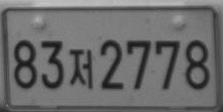2: (99, 38, 123, 89)
3: (41, 39, 64, 89)
7: (154, 39, 180, 89), (126, 39, 151, 89)
8: (12, 38, 37, 89), (185, 38, 210, 89)
저: (69, 48, 93, 89)
